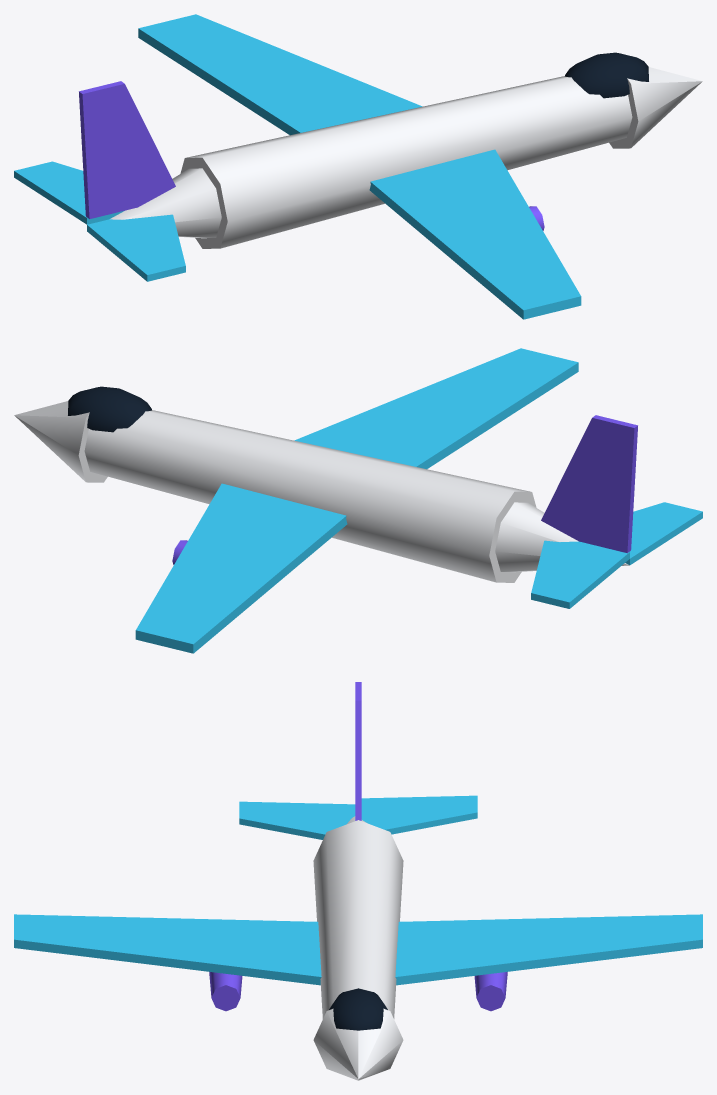
Rendered from modelo.glb.
3 renders of one model, top to bottom at view 1: azimuth 30°, elevation 25°; view 2: azimuth 150°, elevation 25°; view 3: azimuth 270°, elevation 25°, orthographic. The views are drawn at different scales.
Visible parts, largest first — view 1: Aviao; view 2: Aviao; view 3: Aviao.
Boxes of the visible parts, box(x1,y1,x2,y2) form: Aviao: box(14, 14, 702, 319); Aviao: box(14, 348, 702, 653); Aviao: box(14, 682, 702, 1080).
Bounding box in the file's own units: 4.85 × 1.38 × 5.2.
